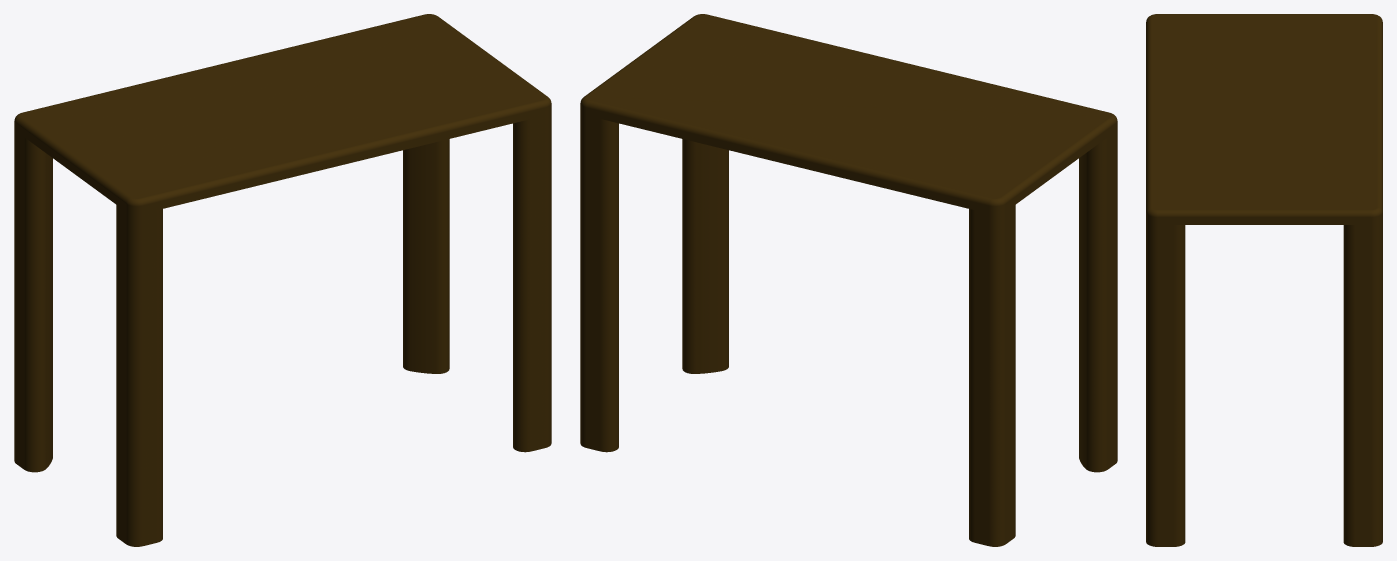
The model's file is Desk.obj.
3 renders of one model, left to right at view 1: azimuth 30°, elevation 25°; view 2: azimuth 150°, elevation 25°; view 3: azimuth 270°, elevation 25°, orthographic. The views are drawn at different scales.
Parts seen in each view (by area): view 1: Body2; view 2: Body2; view 3: Body2.
Part boxes in pixels (x1,y1,x2,y2): Body2: (14, 14, 551, 546); Body2: (580, 14, 1117, 546); Body2: (1146, 14, 1382, 546).
Size of the model in its own units: 1000 by 780 by 500.
